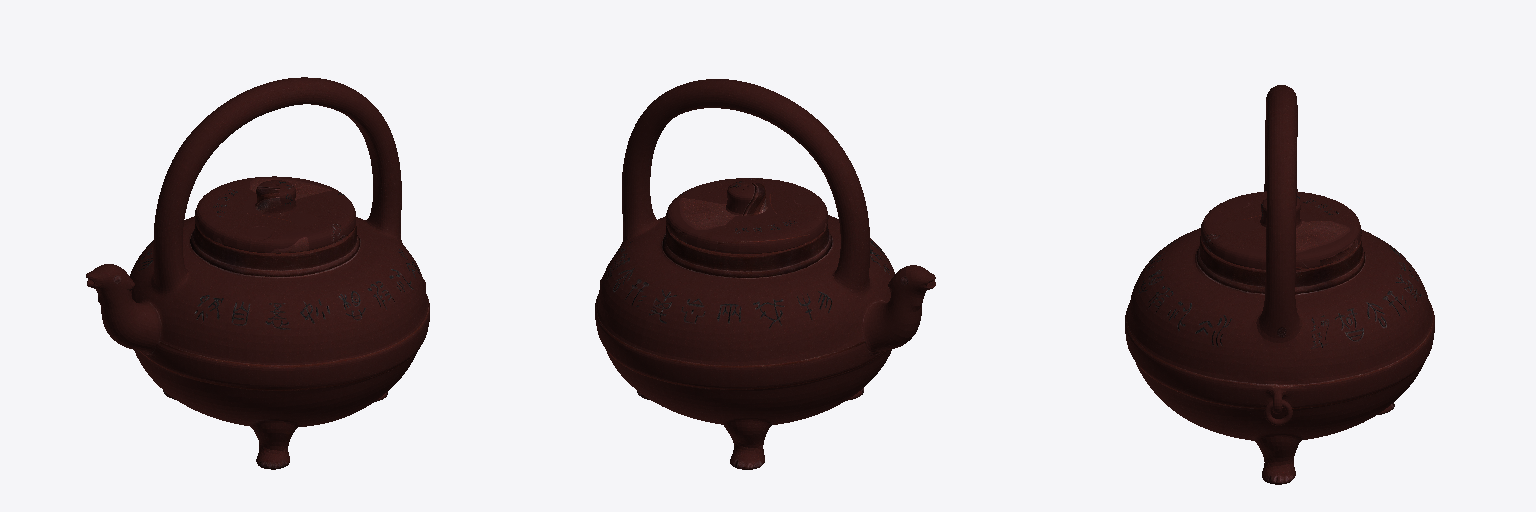
3 renders of one model, left to right at view 1: azimuth 30°, elevation 25°; view 2: azimuth 150°, elevation 25°; view 3: azimuth 270°, elevation 25°, orthographic.
Parts seen in each view (by area): view 1: headusOBJexport, ____001; view 2: headusOBJexport, ____001; view 3: headusOBJexport, ____001.
Part boxes in pixels (x1,y1,x2,y2): headusOBJexport: (86,77,429,469); ____001: (195,176,355,253); headusOBJexport: (595,79,935,469); ____001: (666,178,828,253); headusOBJexport: (1125,85,1434,484); ____001: (1201,191,1361,269).
Size of the model in its own units: 207 by 196 by 165.
4 materials, 4 textured.